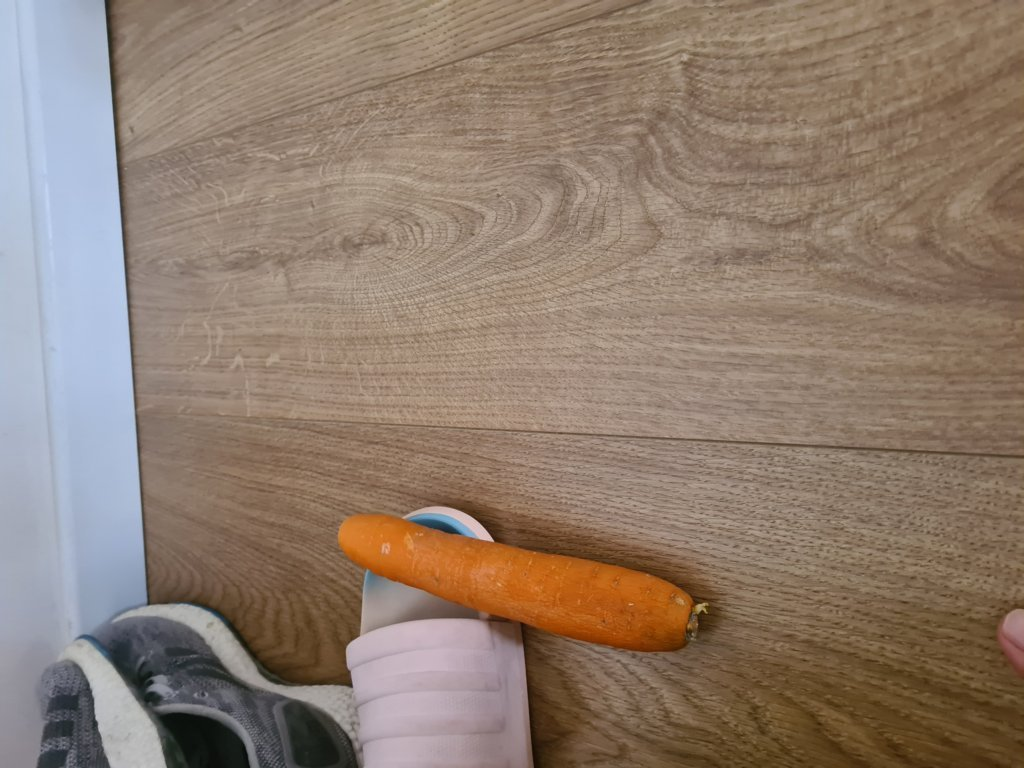carrot: (328, 517, 707, 655)
